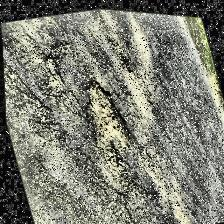pothole: (75, 71, 139, 172)
